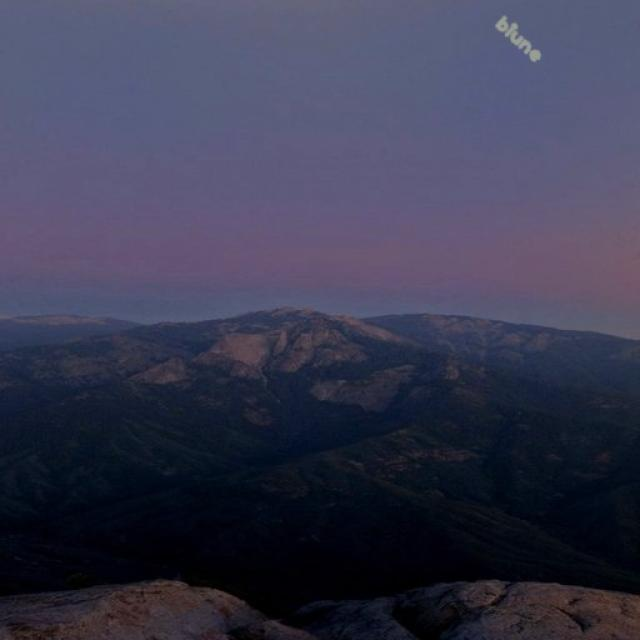watermark: (488, 11, 548, 67)
